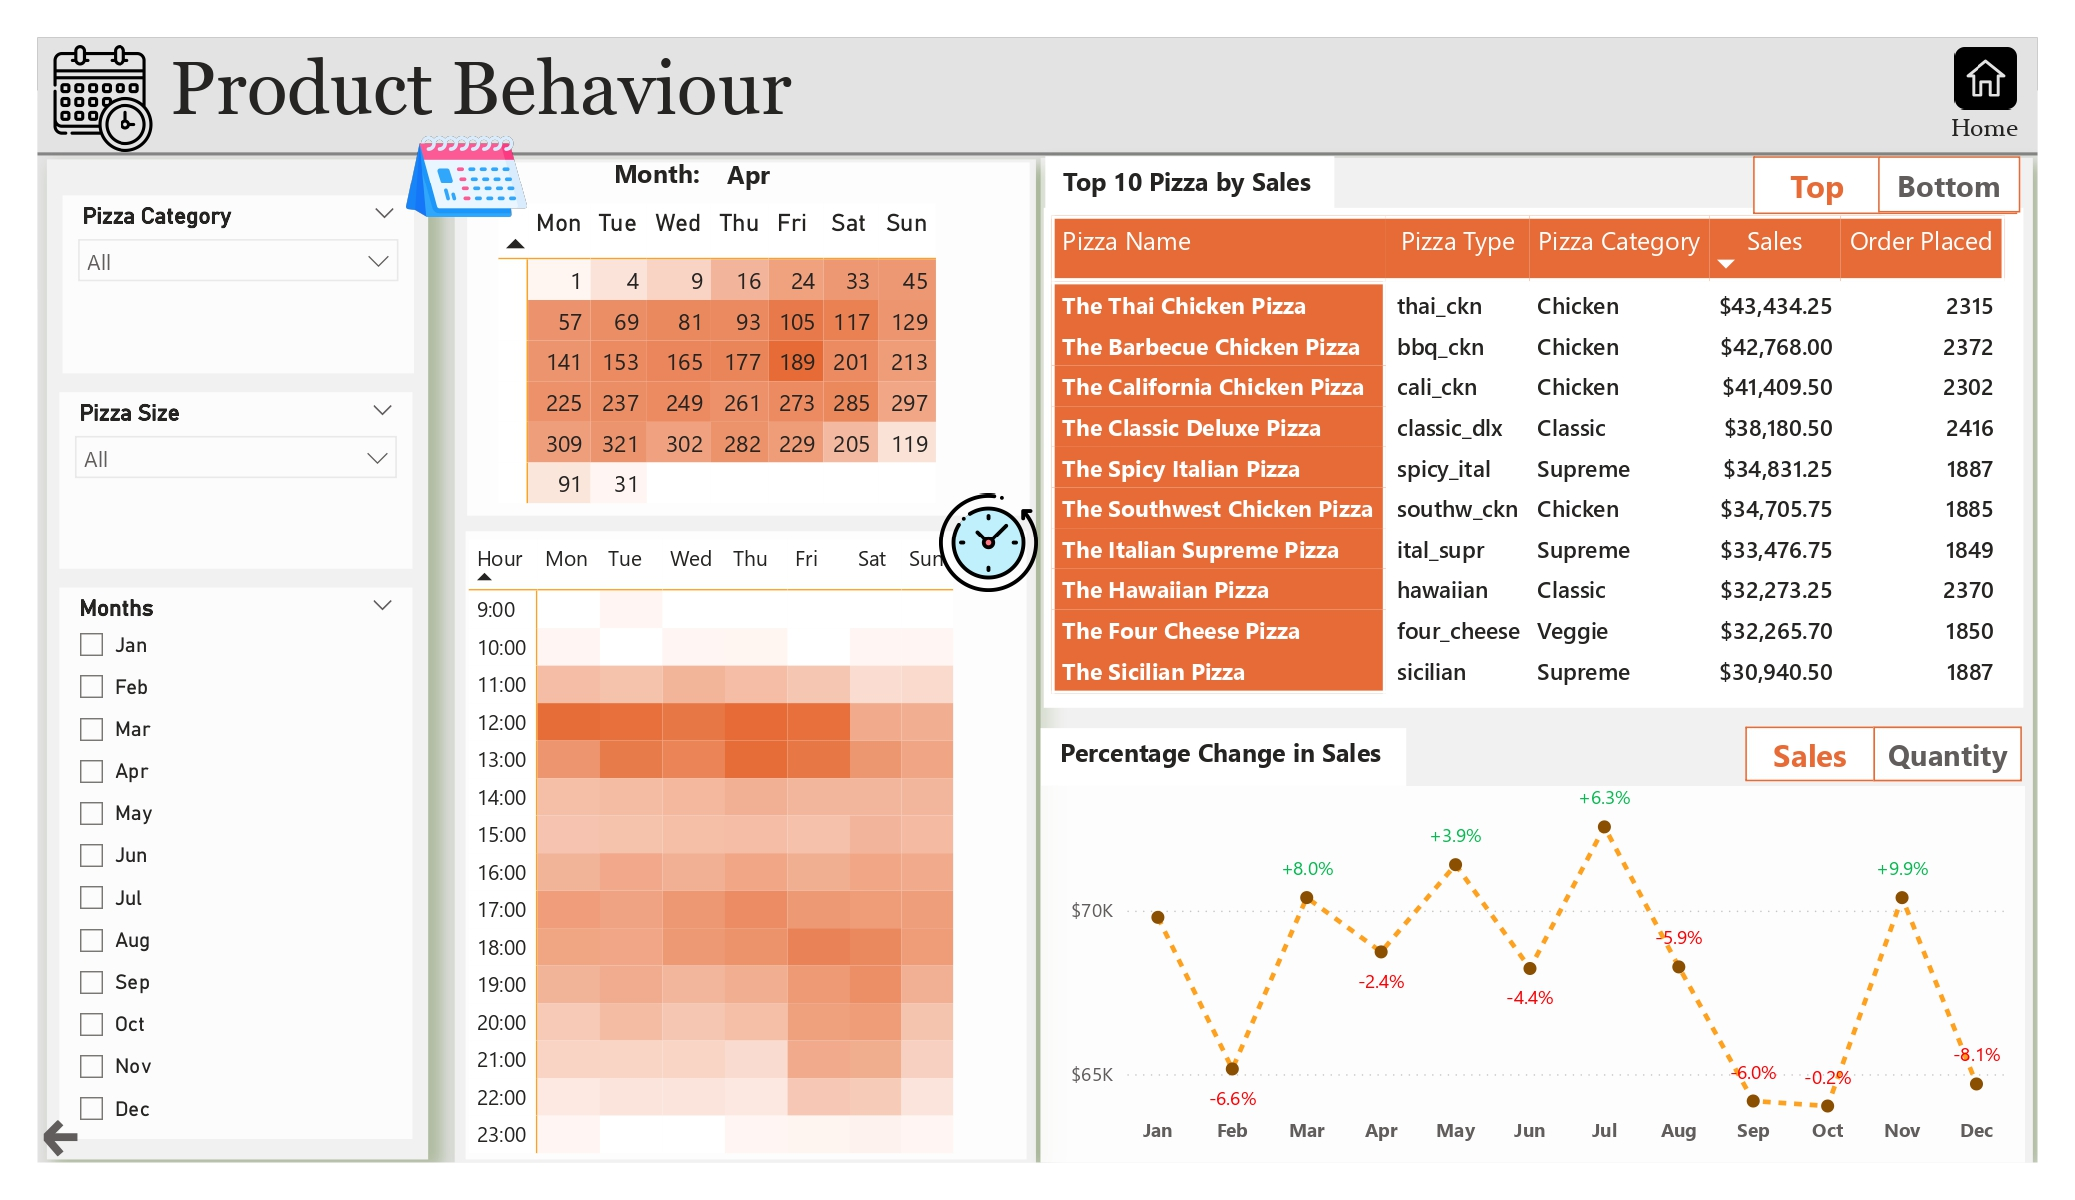

This screenshot's page, from the dashboard's own definition file:
{"tool":"powerbi","page":{"name":"Product Behaviour","canvas":[1280,720],"ordinal":2},"visuals":[{"type":"textbox","box":[79.6,0,598.3,75.5],"z":0},{"type":"image","box":[0,0,84,78],"z":1000},{"type":"shape","box":[0,61.5,1280,25.3],"z":2000},{"type":"image","box":[1216.1,1.2,61.5,49.5],"z":3000},{"type":"textbox","box":[1212.4,43,67.6,30.2],"z":4000},{"type":"shape","box":[6,78.4,243.7,639.4],"z":5000},{"type":"slicer","fields":{"Values":["pizza_types.category","pizzas.pizza_type_id"]},"box":[15.7,101.3,225.6,113.4],"z":6000},{"type":"slicer","fields":{"Values":["pizzas.size"]},"box":[14.5,226.8,225.6,113.4],"z":7000},{"type":"slicer","fields":{"Values":["Dates.Month"]},"box":[14.5,352.3,225.6,352.3],"z":8000},{"type":"shape","box":[266.6,78.4,372.8,641.8],"z":9000},{"type":"shape","box":[275.1,79.6,359.5,226.8],"z":10000},{"type":"pivotTable","fields":{"Rows":["Dates.Week of Month"],"Columns":["Dates.WeekDay"],"Values":["Sum(Dates.Day)"]},"box":[289.5,101.3,325.7,205.1],"z":11000},{"type":"card","fields":{"Values":["Min(Dates.Month)"]},"box":[411.4,71.2,88.1,37.4],"z":12000},{"type":"textbox","box":[354,71,88,37],"z":13000},{"type":"shape","box":[273.9,316.1,359.5,401.7],"z":14000},{"type":"pivotTable","fields":{"Rows":["orders.Start of Hour"],"Columns":["Dates.WeekDay"],"Values":["CountNonNull(order_details.order_details_id)"]},"box":[271.4,315.8,364.3,404.2],"z":15000},{"type":"shape","box":[642,76.6,634.8,643.5],"z":16000},{"type":"textbox","box":[645.4,76,184.6,37.4],"z":17000},{"type":"textbox","box":[641.8,441.6,234,37.4],"z":18000},{"type":"shape","box":[642.2,478.9,629.8,241.5],"z":19000},{"type":"lineChart","fields":{"Category":["Dates.Month"],"Y":["Formula.Sales"]},"box":[655.9,461.1,609.3,256.6],"z":20000},{"type":"pivotTable","fields":{"Rows":["pizza_types.name"],"Values":["Min(pizza_types.pizza_type_id)","Min(pizza_types.category)","Formula.Sales","CountNonNull(order_details.order_details_id)"]},"box":[644,109,627.1,319.7],"z":24000},{"type":"image","box":[230.9,43.4,86.9,90.6],"z":27000},{"type":"shape","box":[1097.5,76,82,37],"z":28000},{"type":"image","box":[572.2,283,73.2,80.7],"z":29000},{"type":"shape","box":[1178,77,89.4,36],"z":30000},{"type":"actionButton","box":[1178,76,91.1,36.2],"z":32000},{"type":"shape","box":[1175,441,95.4,35],"z":33000},{"type":"shape","box":[1093,441,83,35],"z":34000},{"type":"actionButton","box":[1175,441,95.4,34.7],"z":35500},{"type":"actionButton","box":[0,688.9,33.5,31],"z":35501}]}

Visuals, with their boxes in screenshot pixels (x1, y1, x2, y2):
textbox: Rect(162, 38, 1097, 155)
image: Rect(38, 38, 169, 159)
shape: Rect(38, 134, 2038, 173)
image: Rect(1938, 39, 2034, 117)
textbox: Rect(1932, 105, 2038, 152)
shape: Rect(47, 160, 428, 1159)
slicer - pizza_types.category x pizzas.pizza_type_id: Rect(62, 196, 415, 373)
slicer - pizzas.size: Rect(60, 392, 413, 569)
slicer - Dates.Month: Rect(60, 588, 413, 1138)
shape: Rect(454, 160, 1037, 1162)
shape: Rect(467, 162, 1029, 516)
pivotTable - Dates.Week of Month x Dates.WeekDay: Rect(490, 196, 999, 516)
card - Min(Dates.Month): Rect(680, 149, 818, 207)
textbox: Rect(591, 148, 728, 206)
shape: Rect(465, 531, 1027, 1159)
pivotTable - orders.Start of Hour x Dates.WeekDay: Rect(462, 531, 1031, 1162)
shape: Rect(1041, 157, 2032, 1162)
textbox: Rect(1046, 156, 1334, 215)
textbox: Rect(1040, 728, 1406, 786)
shape: Rect(1041, 786, 2025, 1162)
lineChart - Dates.Month x Formula.Sales: Rect(1062, 758, 2014, 1159)
pivotTable - pizza_types.name x Min(pizza_types.pizza_type_id): Rect(1044, 208, 2024, 707)
image: Rect(398, 105, 534, 247)
shape: Rect(1752, 156, 1880, 214)
image: Rect(932, 480, 1046, 606)
shape: Rect(1878, 158, 2018, 214)
actionButton: Rect(1878, 156, 2020, 213)
shape: Rect(1873, 727, 2023, 781)
shape: Rect(1745, 727, 1875, 781)
actionButton: Rect(1873, 727, 2023, 781)
actionButton: Rect(38, 1114, 90, 1162)
